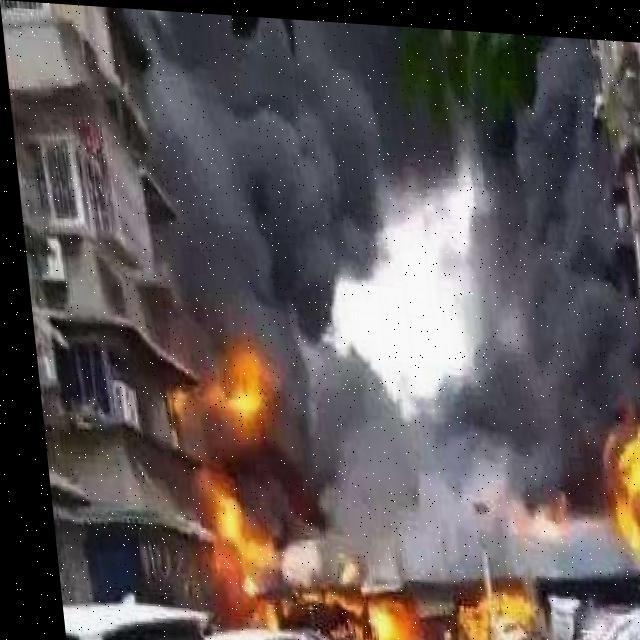Fire: (160, 352, 286, 628), (295, 568, 408, 639), (590, 409, 639, 568), (432, 580, 531, 639)
